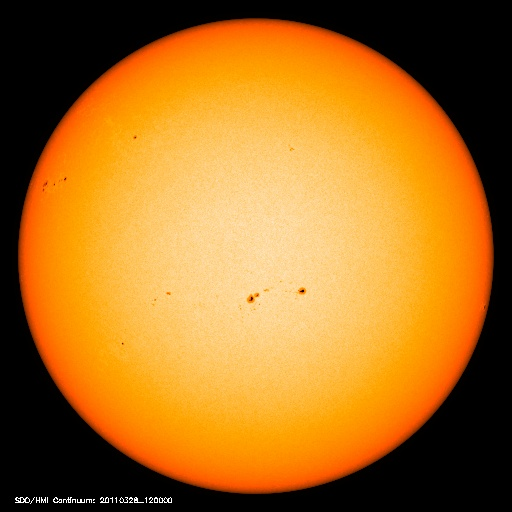sunspot: (235, 278, 321, 316), (33, 170, 73, 195), (142, 286, 177, 309), (275, 132, 301, 159), (123, 125, 146, 148), (111, 333, 135, 353)
